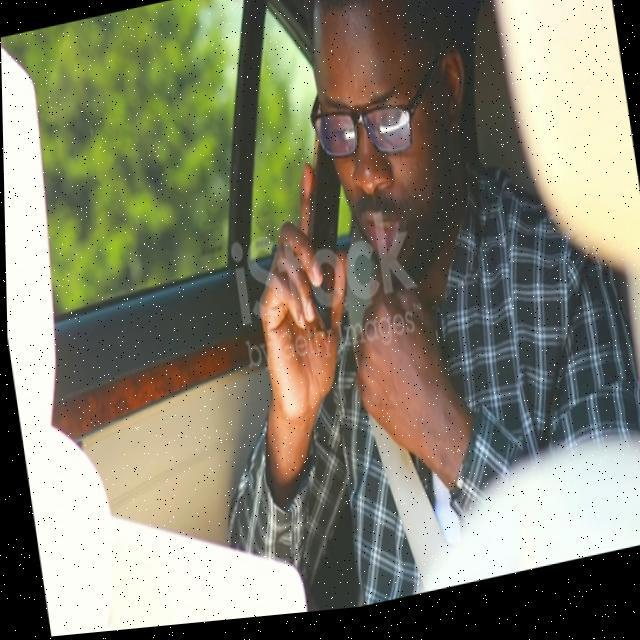PhoneCall: (284, 98, 368, 343)
